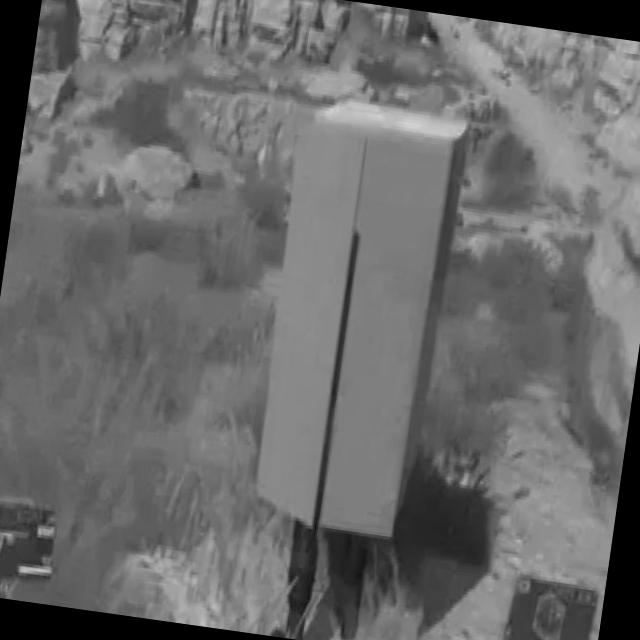snake-in-cardboard-boxes: (248, 95, 469, 546)
